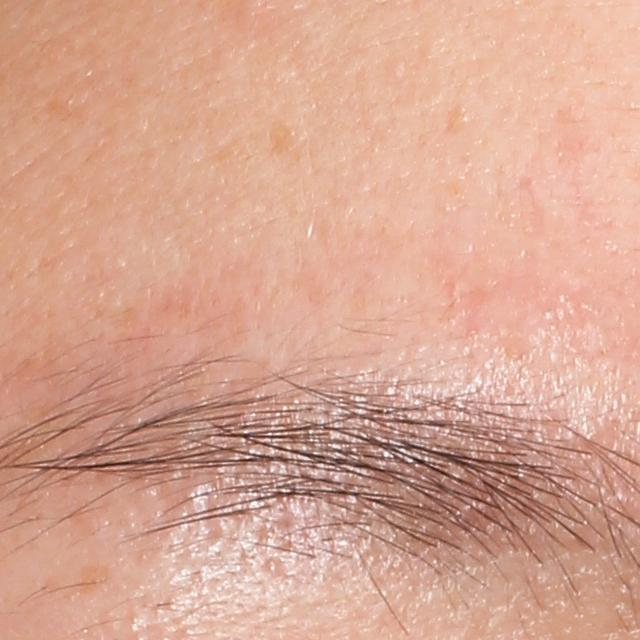melasma: (264, 118, 299, 165)
